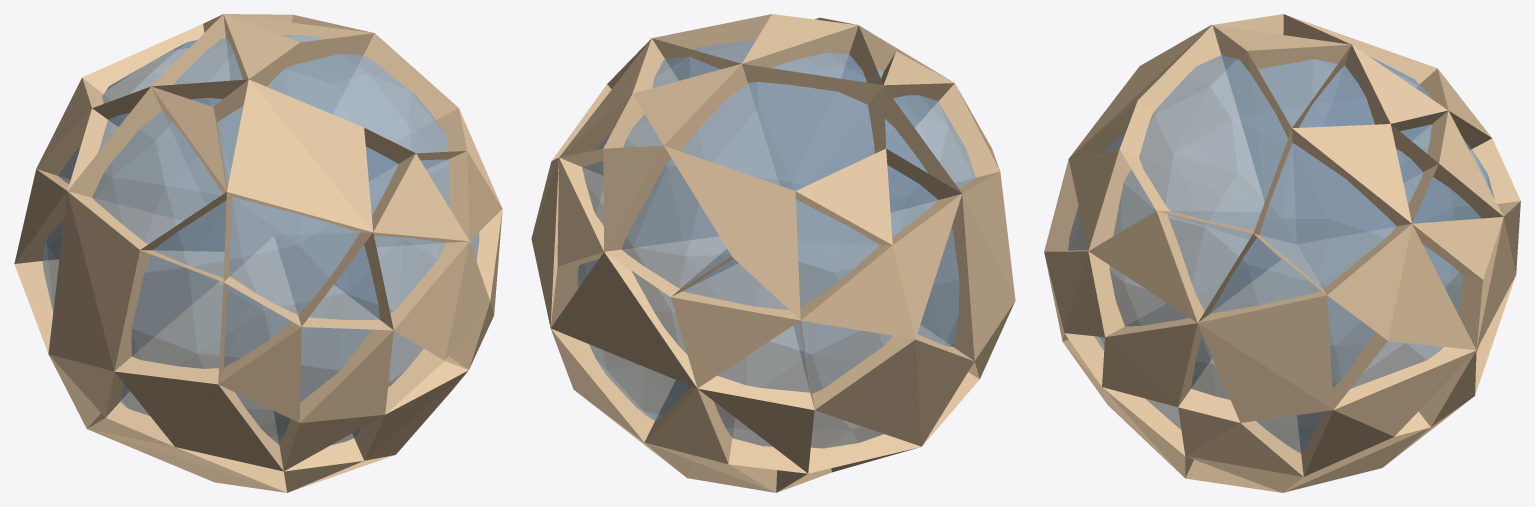
Rendered from water_planet6.fbx.
3 views of the same model, side by side, from view 1: azimuth 30°, elevation 25°; view 2: azimuth 150°, elevation 25°; view 3: azimuth 270°, elevation 25° (orthographic). The views are drawn at different scales.
Parts seen in each view (by area): view 1: water_planet6; view 2: water_planet6; view 3: water_planet6.
Part boxes in pixels (x1,y1,x2,y2): water_planet6: (14,14,502,492); water_planet6: (531,14,1015,492); water_planet6: (1044,14,1520,492).
Size of the model in its own units: 195 by 198 by 201.
